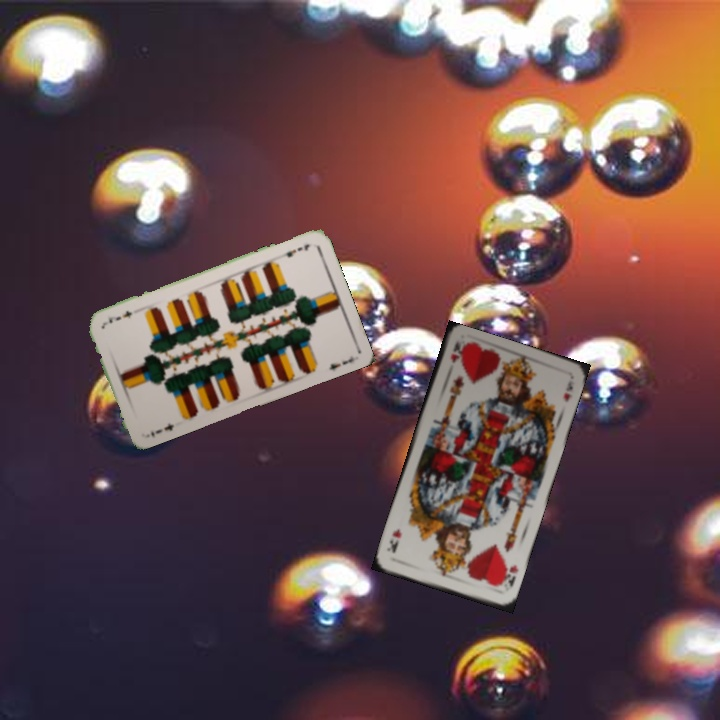E7: (276, 240, 312, 261), (147, 419, 176, 440)
HK: (496, 558, 521, 590), (446, 338, 465, 366)
